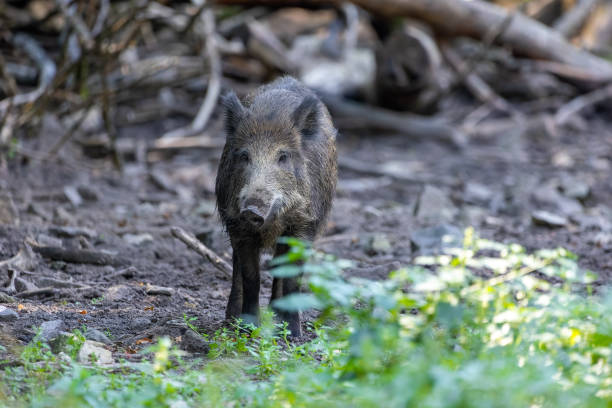pig: (212, 76, 335, 318)
